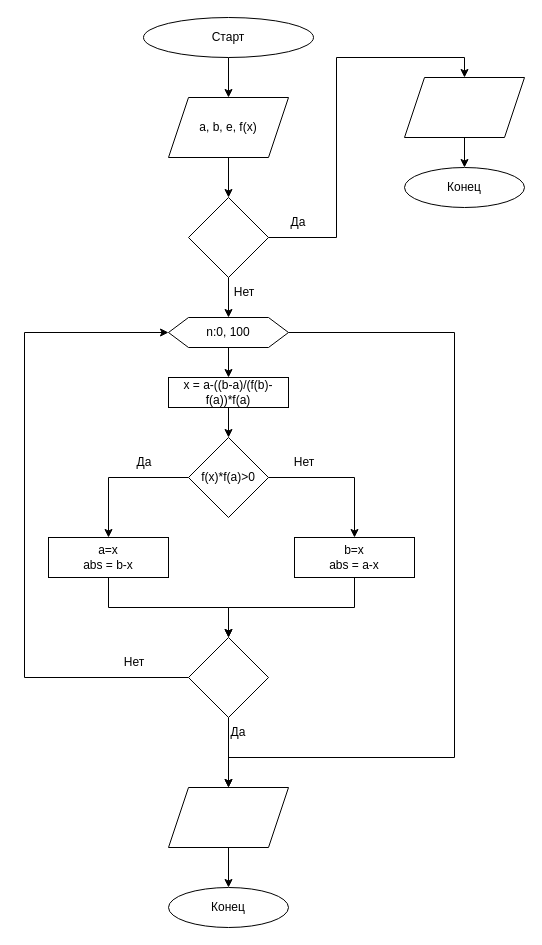
This 542x945 diagram has some shape labels left out. The centre of each missing label's shape, as x and y in pixels:
abs<=e or |f(x)|<e: (x=228, y=677)
f(a)*f(b)>0: (x=228, y=237)
x, f(x), n, abss: (x=228, y=817)
Корней нет, несколько: (x=464, y=107)
